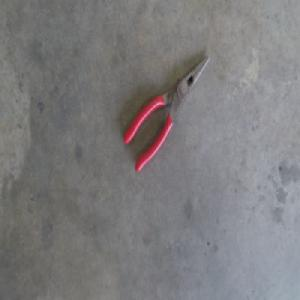Pliers: (122, 54, 210, 176)
